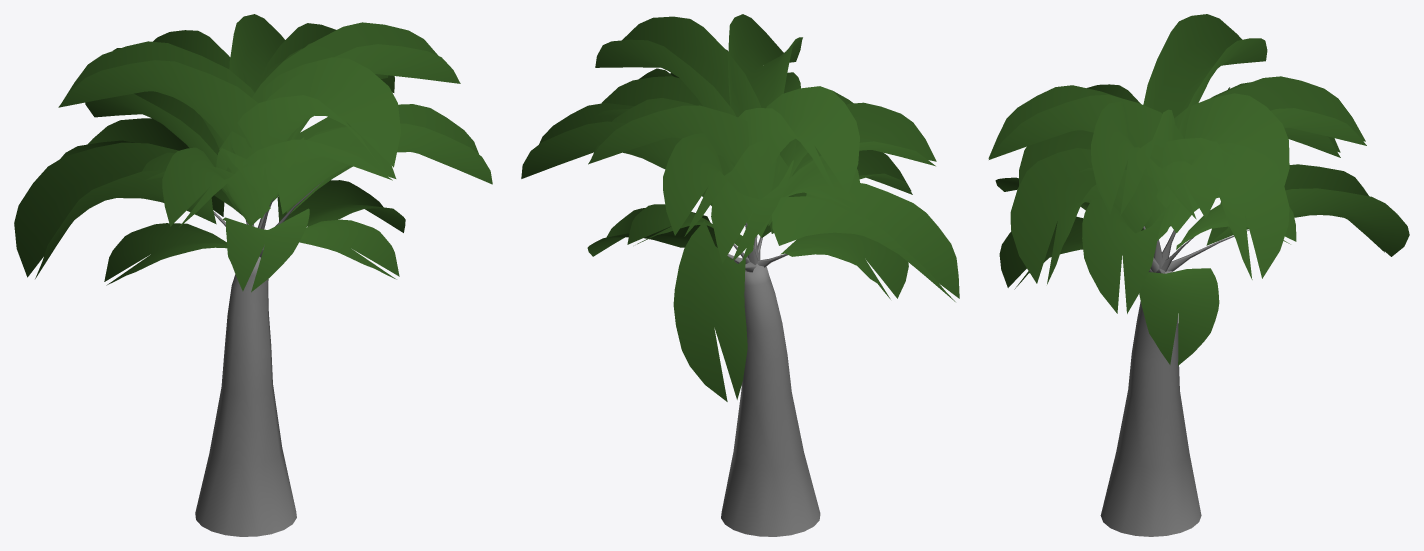
The model's file is SM_palm_tree_short_01.fbx.
The picture shows the model from 3 angles, left to right: view 1: azimuth 30°, elevation 25°; view 2: azimuth 150°, elevation 25°; view 3: azimuth 270°, elevation 25°; orthographic projection. The views are drawn at different scales.
Visible parts, largest first — view 1: Object011; view 2: Object011; view 3: Object011.
Boxes of the visible parts, left/top/right/bottom form: Object011: left=14, top=14, right=492, bottom=536; Object011: left=521, top=14, right=959, bottom=536; Object011: left=988, top=14, right=1409, bottom=536.
Bounding box in the file's own units: 96.82 × 104 × 86.71.
